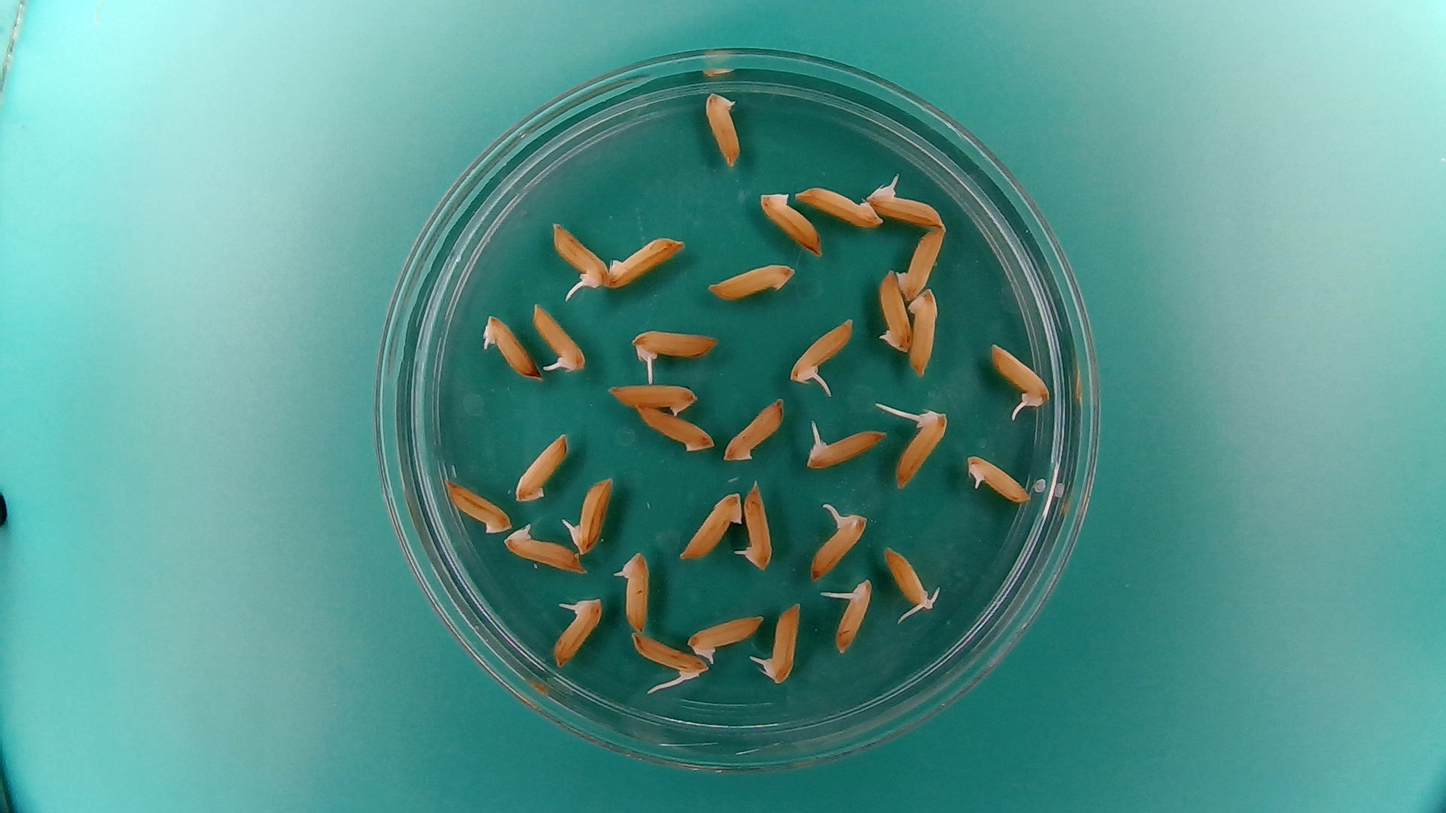no: (673, 488, 747, 563), (721, 393, 788, 467), (756, 186, 825, 257), (790, 181, 883, 230), (606, 234, 688, 289), (441, 477, 514, 535), (705, 258, 797, 302), (513, 431, 569, 503), (896, 227, 947, 306), (633, 406, 715, 455), (604, 379, 700, 417), (875, 266, 914, 354), (702, 86, 743, 169), (907, 285, 938, 379)
yes: (890, 411, 950, 489), (532, 300, 589, 375), (791, 317, 853, 385), (807, 510, 866, 581), (988, 340, 1049, 408), (480, 316, 541, 382), (550, 219, 606, 290), (735, 478, 776, 573), (551, 598, 606, 668), (963, 452, 1033, 505), (802, 429, 888, 470), (630, 634, 708, 679), (883, 546, 936, 612), (871, 184, 947, 229), (686, 614, 765, 657), (760, 601, 801, 683), (505, 531, 580, 575), (614, 548, 651, 634), (832, 575, 872, 653), (571, 475, 612, 551), (631, 329, 716, 362)
